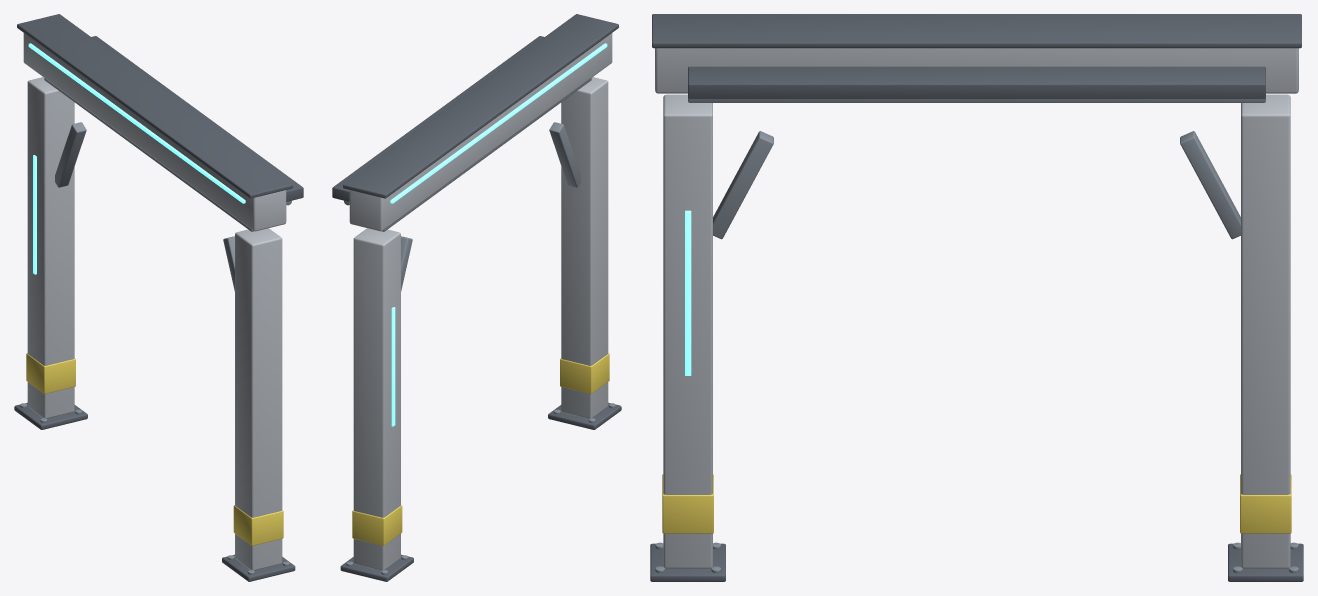
File: gantry_v01.glb
3 renders of one model, left to right at view 1: azimuth 30°, elevation 25°; view 2: azimuth 150°, elevation 25°; view 3: azimuth 270°, elevation 25°, orthographic. The views are drawn at different scales.
Parts seen in each view (by area): view 1: gantry_leg_left, gantry_leg_right, gantry_beam_top, gantry_beam, gantry_leg_band_left, gantry_leg_band_right, gantry_cable_tray, gantry_beam_glow, gantry_brace_right, gantry_foot_right, gantry_foot_left, gantry_rail (+1 smaller); view 2: gantry_leg_right, gantry_leg_left, gantry_beam_top, gantry_beam, gantry_leg_band_right, gantry_leg_band_left, gantry_cable_tray, gantry_beam_glow, gantry_brace_left, gantry_foot_left, gantry_foot_right, gantry_rail (+1 smaller); view 3: gantry_beam_top, gantry_leg_right, gantry_leg_left, gantry_cable_tray, gantry_beam, gantry_rail, gantry_brace_left, gantry_brace_right, gantry_leg_band_left, gantry_leg_band_right, gantry_foot_left, gantry_foot_right (+1 smaller).
Part boxes in pixels (bbox=[...]): gantry_leg_left: bbox=[235, 228, 282, 570]; gantry_leg_right: bbox=[27, 77, 74, 418]; gantry_beam_top: bbox=[17, 14, 292, 198]; gantry_beam: bbox=[23, 33, 286, 231]; gantry_leg_band_left: bbox=[233, 505, 283, 545]; gantry_leg_band_right: bbox=[26, 353, 75, 393]; gantry_cable_tray: bbox=[91, 36, 303, 201]; gantry_beam_glow: bbox=[28, 43, 245, 203]; gantry_brace_right: bbox=[55, 122, 86, 187]; gantry_foot_right: bbox=[14, 402, 87, 429]; gantry_foot_left: bbox=[222, 554, 295, 581]; gantry_rail: bbox=[44, 78, 253, 231]; gantry_leg_right: bbox=[353, 228, 400, 570]; gantry_leg_left: bbox=[561, 77, 608, 418]; gantry_beam_top: bbox=[343, 14, 618, 198]; gantry_beam: bbox=[349, 33, 612, 231]; gantry_leg_band_right: bbox=[352, 505, 402, 545]; gantry_leg_band_left: bbox=[560, 353, 609, 393]; gantry_cable_tray: bbox=[332, 36, 544, 201]; gantry_beam_glow: bbox=[390, 43, 607, 203]; gantry_brace_left: bbox=[549, 122, 580, 187]; gantry_foot_left: bbox=[548, 402, 621, 429]; gantry_foot_right: bbox=[340, 554, 413, 581]; gantry_rail: bbox=[382, 78, 591, 231]; gantry_beam_top: bbox=[652, 14, 1301, 48]; gantry_leg_right: bbox=[1241, 94, 1290, 568]; gantry_leg_left: bbox=[663, 94, 712, 568]; gantry_cable_tray: bbox=[688, 66, 1265, 98]; gantry_beam: bbox=[655, 48, 1298, 93]; gantry_rail: bbox=[688, 97, 1265, 102]; gantry_brace_left: bbox=[713, 131, 773, 239]; gantry_brace_right: bbox=[1180, 131, 1240, 239]; gantry_leg_band_left: bbox=[662, 474, 713, 533]; gantry_leg_band_right: bbox=[1240, 474, 1291, 533]; gantry_foot_left: bbox=[650, 543, 725, 581]; gantry_foot_right: bbox=[1228, 543, 1303, 581].
Bounding box in the file's own units: 0.67 × 3.6 × 3.96.
